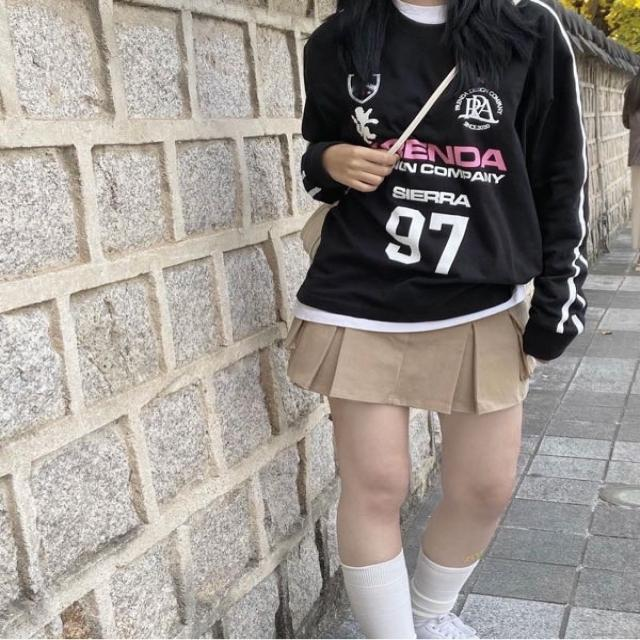mtm: (283, 4, 587, 342)
skirt: (284, 301, 540, 421)
